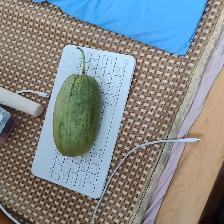gua: (55, 69, 96, 164)
